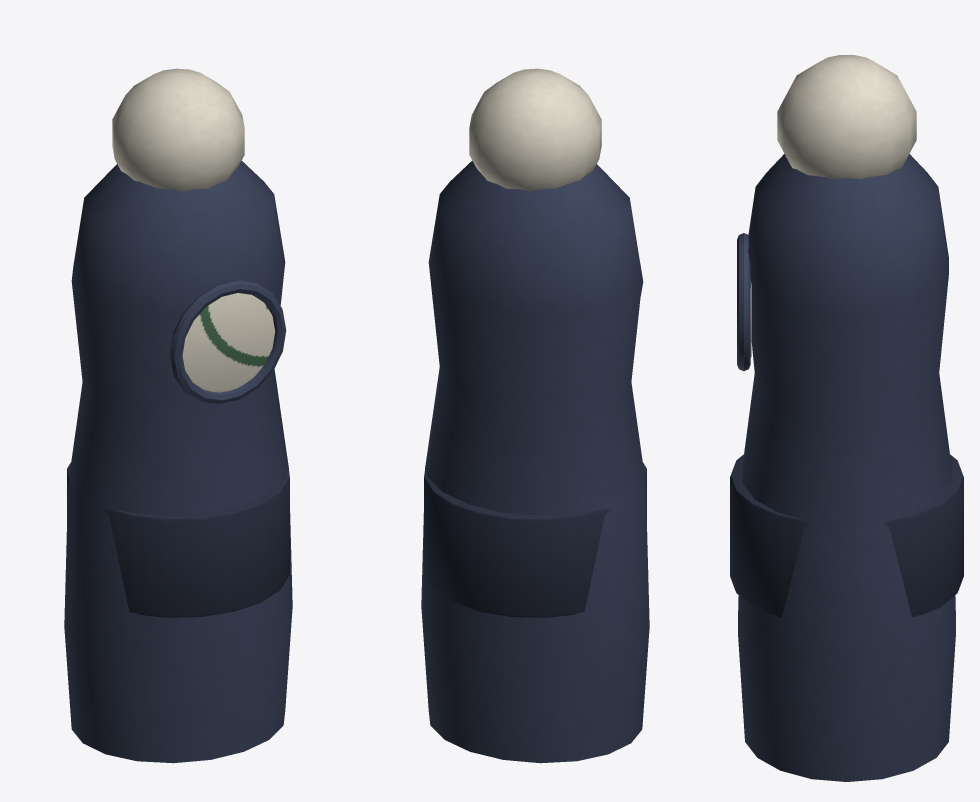
Rendered from pf_headcover_driver.glb.
The picture shows the model from 3 angles, left to right: view 1: azimuth 30°, elevation 25°; view 2: azimuth 150°, elevation 25°; view 3: azimuth 270°, elevation 25°; orthographic projection. The views are drawn at different scales.
Visible parts, largest first — view 1: pf_headcover_driver_body.001; view 2: pf_headcover_driver_body.001; view 3: pf_headcover_driver_body.001.
Boxes of the visible parts, <box> form: pf_headcover_driver_body.001: <box>64,68,292,763</box>; pf_headcover_driver_body.001: <box>421,68,649,763</box>; pf_headcover_driver_body.001: <box>730,55,963,781</box>.
Size of the model in its own units: 0.13 by 0.374 by 0.12.
5 materials, 4 textured.
